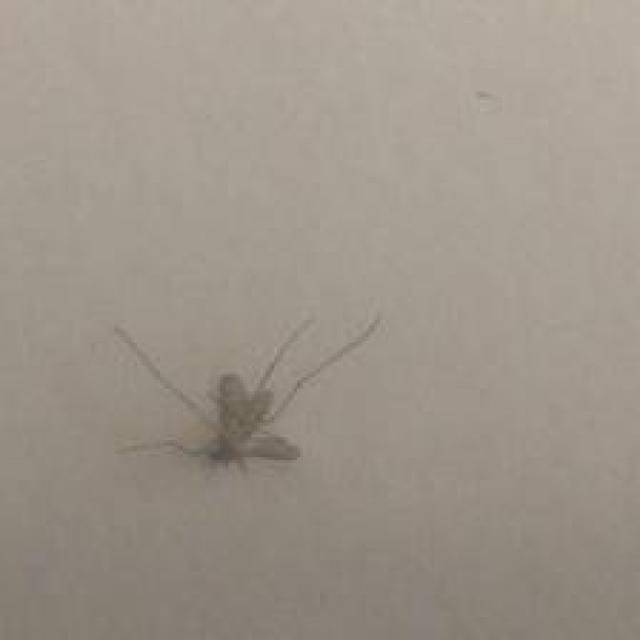Culex: (111, 309, 383, 480)
